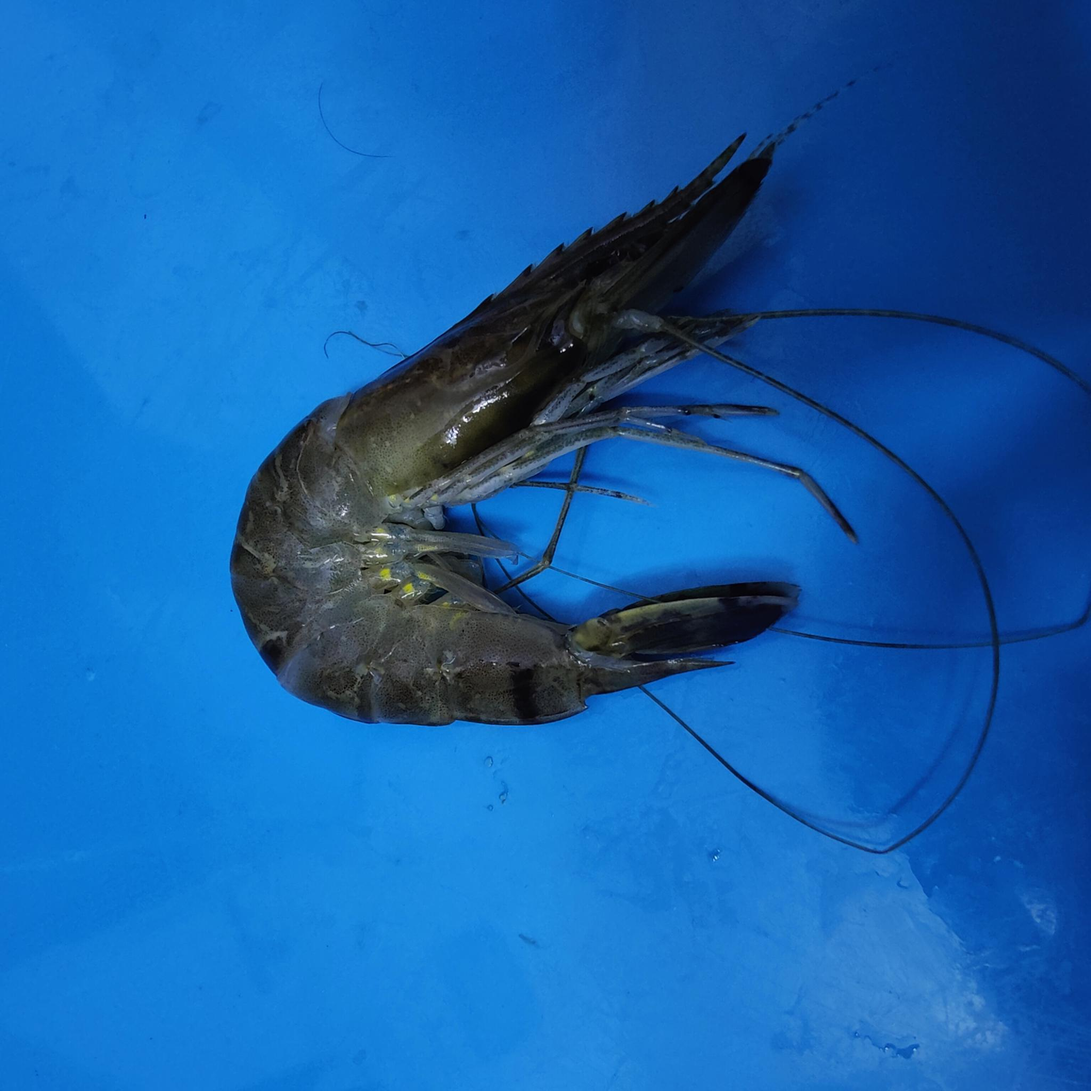whitespot: (357, 384, 446, 489), (312, 635, 398, 714)
